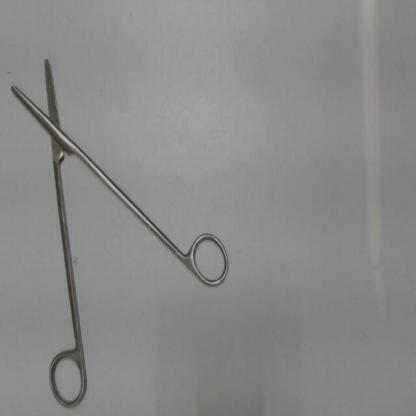9 Metzenbaum Scissors: (7, 53, 236, 412)
